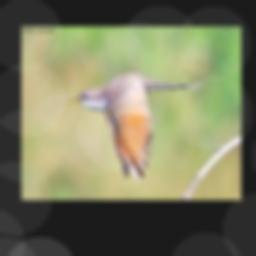Cuckoo: (69, 72, 205, 181)
